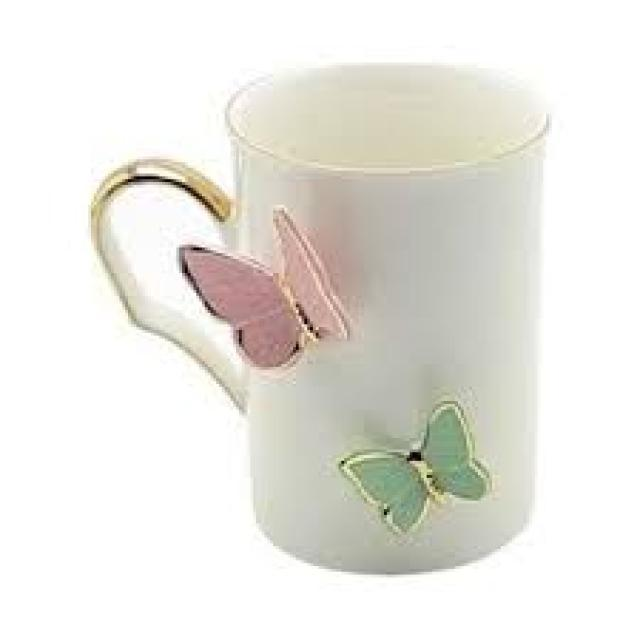taza: (88, 59, 551, 577)
